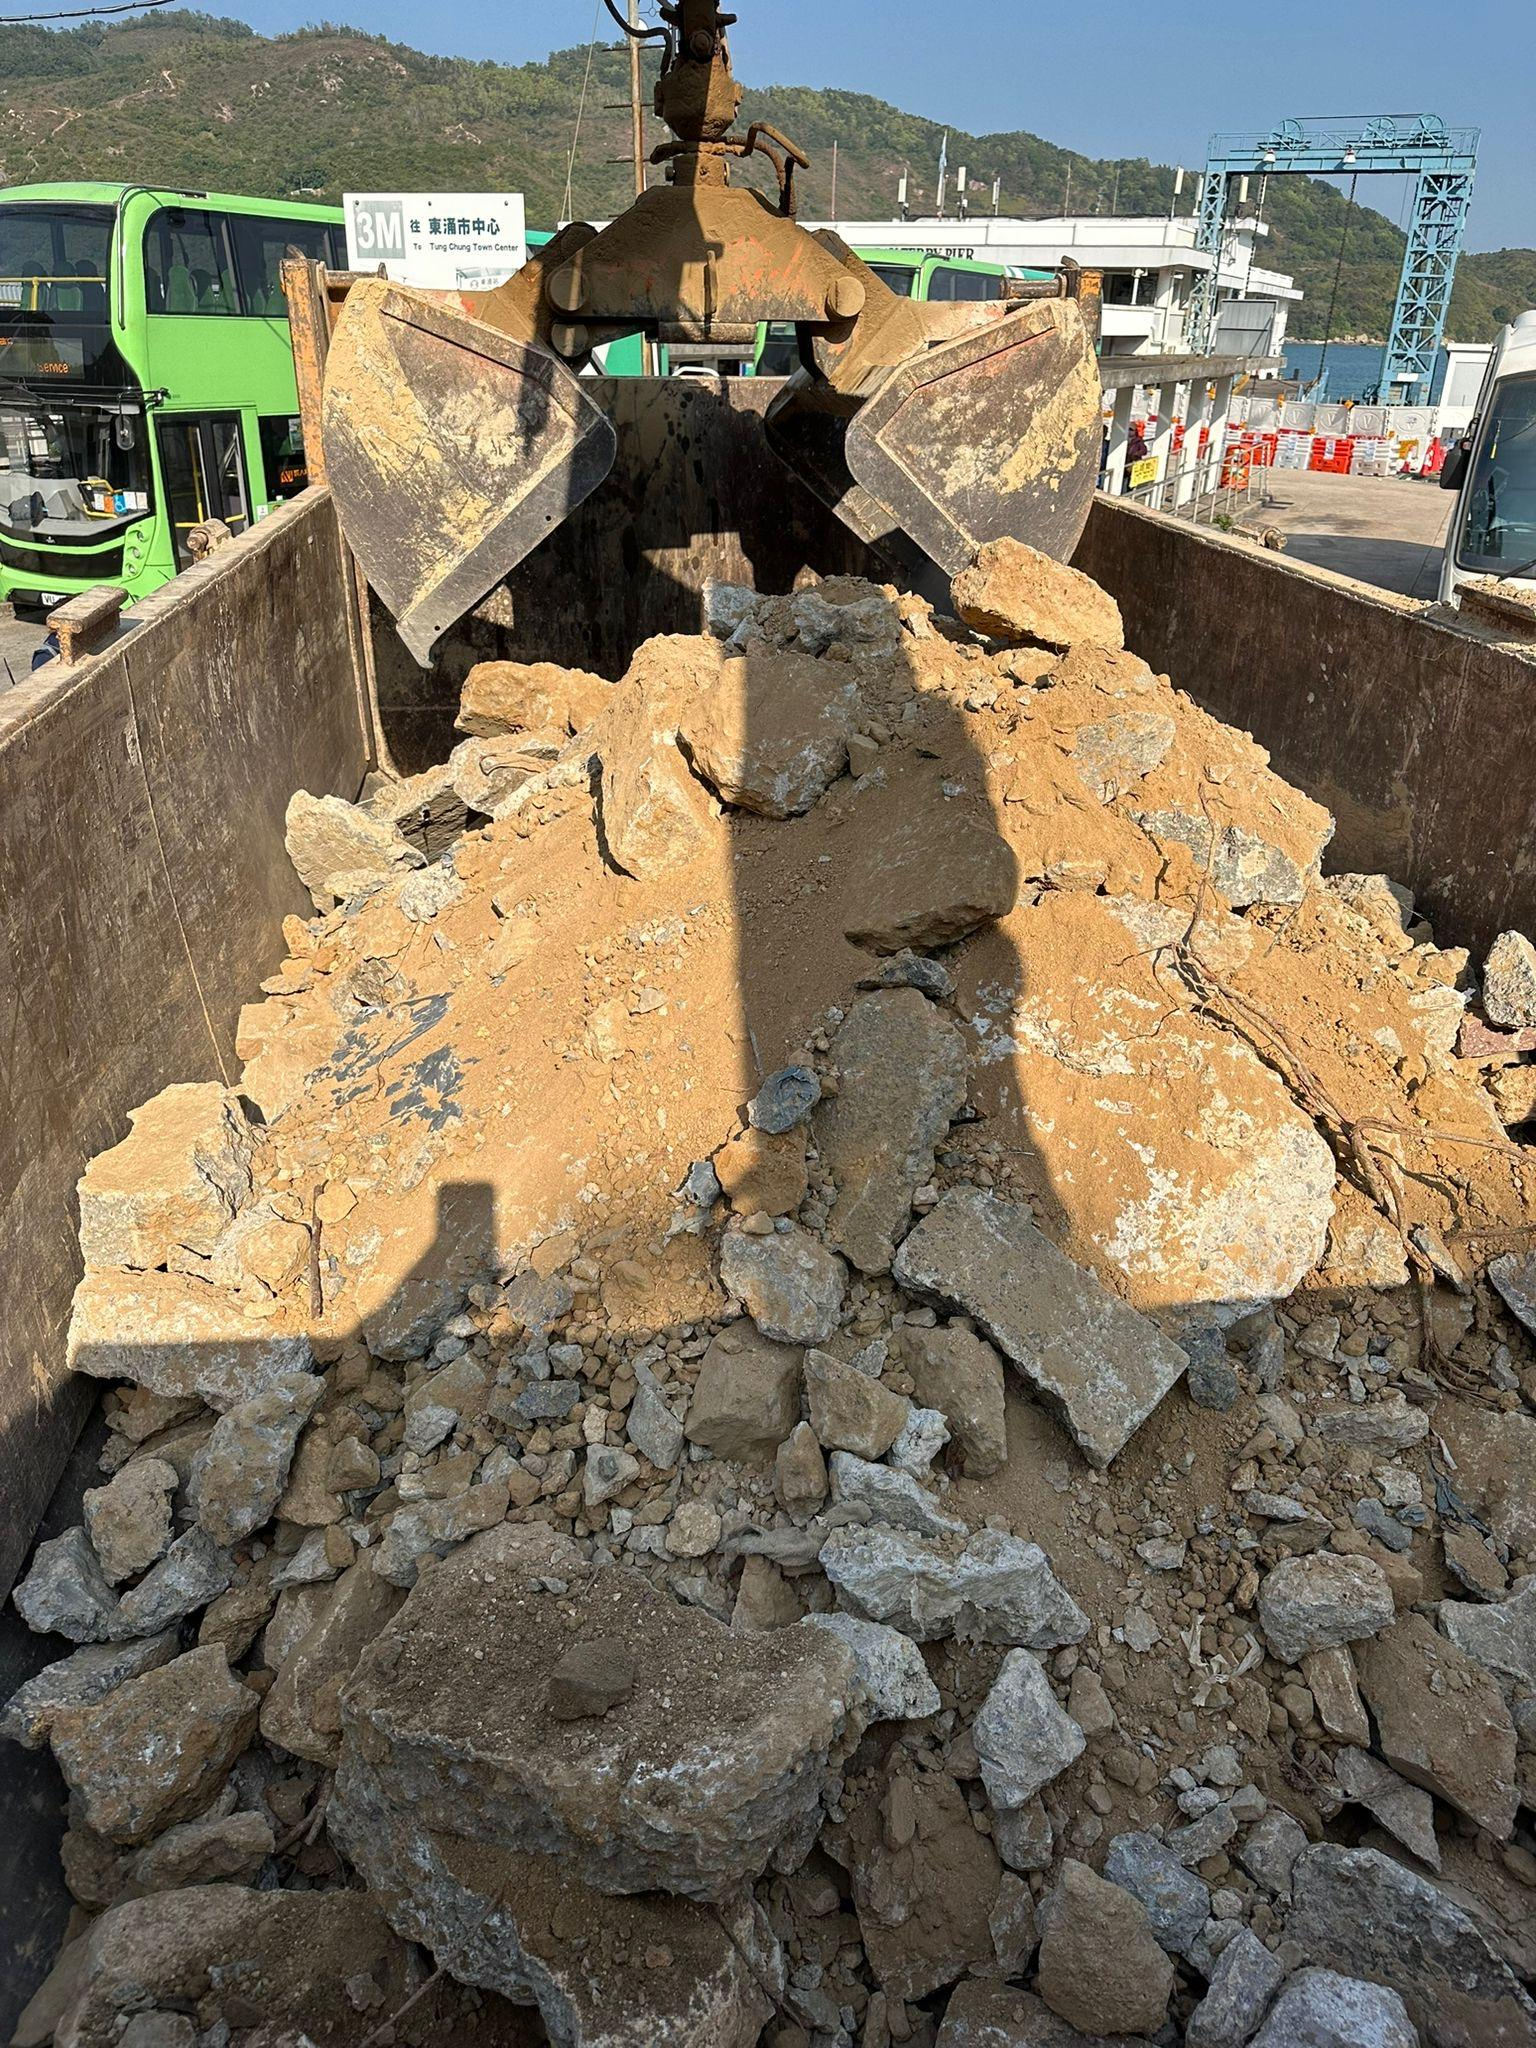dry: (63, 584, 1526, 2037)
